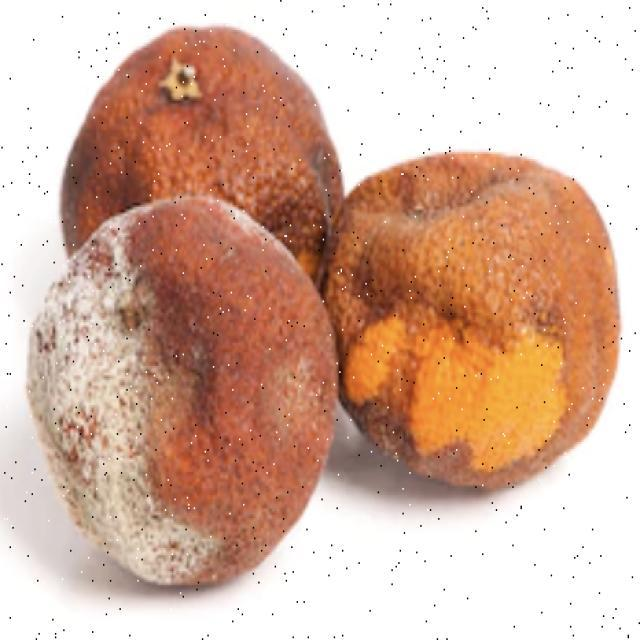sangat-busuk: (28, 197, 337, 584), (324, 153, 619, 487), (61, 26, 343, 283)
